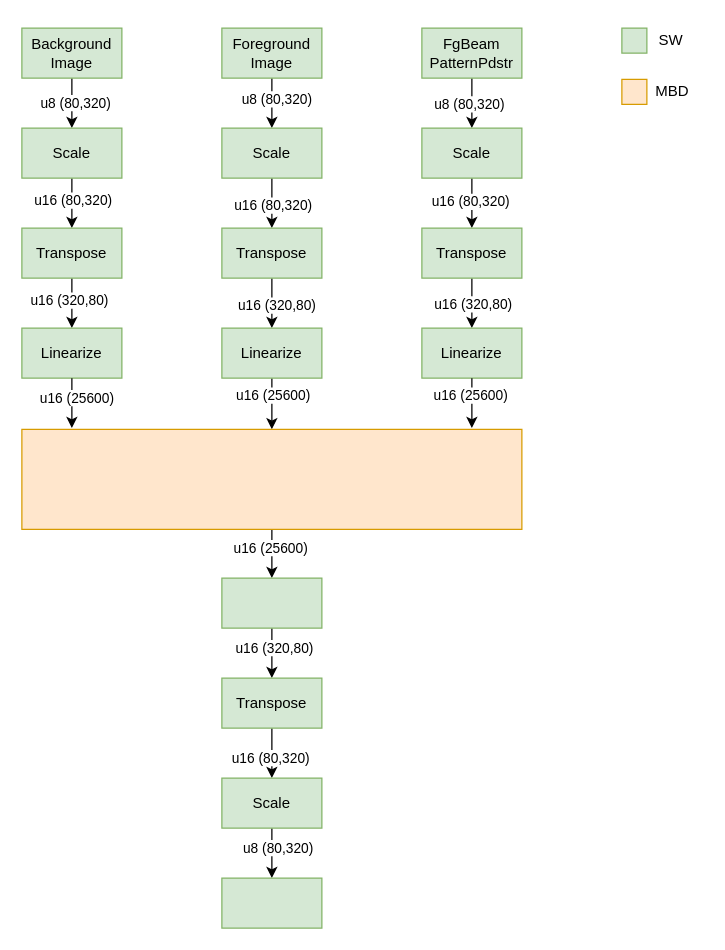
Image size: 725x950. Some labels were removed from this diagram. Here are the shapes that lost their labels. From the top down, the box of each, then its label:
(21, 428, 522, 529): ADB Model
(221, 577, 322, 628): De-linearize
(221, 877, 322, 928): Out
